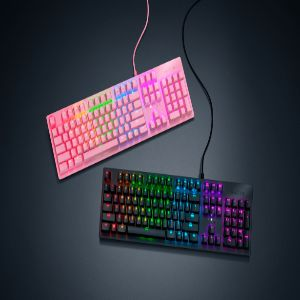keyboard: (34, 55, 194, 181), (100, 161, 255, 265)
